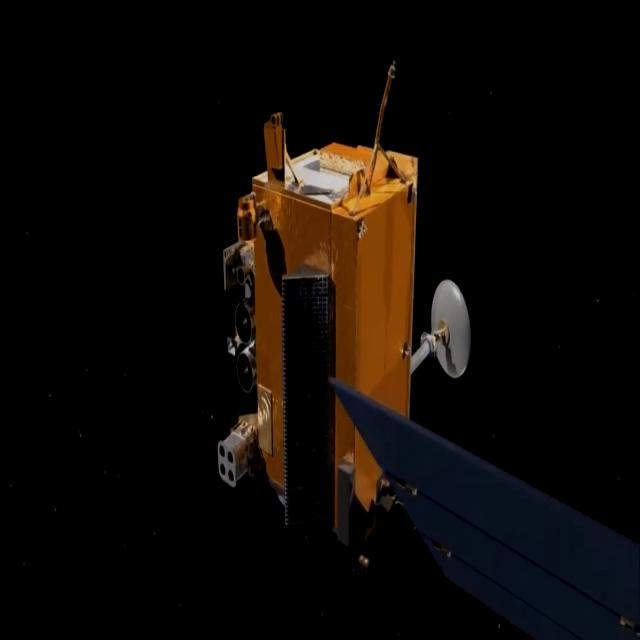satellite: (203, 0, 640, 640)
